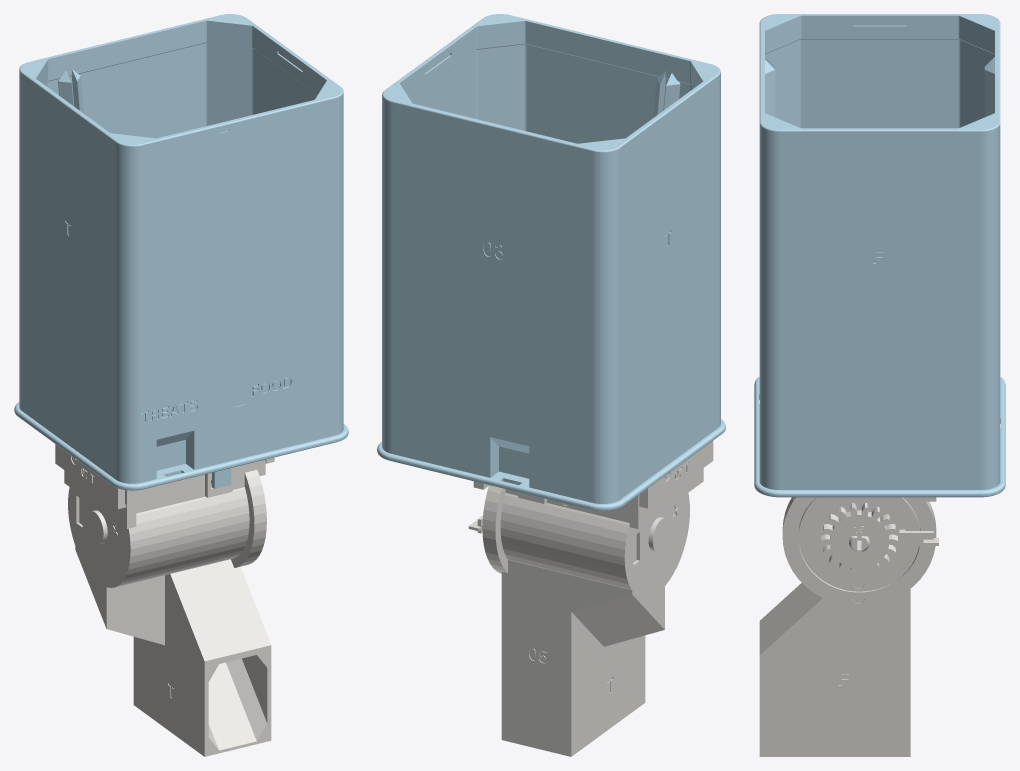
File: a8_hopper.glb
3 renders of one model, left to right at view 1: azimuth 30°, elevation 25°; view 2: azimuth 150°, elevation 25°; view 3: azimuth 270°, elevation 25°, orthographic. The views are drawn at different scales.
Parts seen in each view (by area): view 1: 03_hopper, 05_wheel_housing, 07_flap_holder; view 2: 03_hopper, 05_wheel_housing, 07_flap_holder; view 3: 03_hopper, 05_wheel_housing, 12_end_cap, 15_wheel_gear.
Part boxes in pixels (x1=…): 03_hopper: x1=14, y1=14, x2=348, y2=490; 05_wheel_housing: x1=64, y1=459, x2=271, y2=756; 07_flap_holder: x1=55, y1=444, x2=126, y2=509; 03_hopper: x1=377, y1=14, x2=725, y2=510; 05_wheel_housing: x1=473, y1=468, x2=703, y2=756; 07_flap_holder: x1=639, y1=441, x2=713, y2=508; 03_hopper: x1=754, y1=14, x2=1005, y2=497; 05_wheel_housing: x1=759, y1=497, x2=936, y2=756; 12_end_cap: x1=799, y1=497, x2=938, y2=591; 15_wheel_gear: x1=821, y1=502, x2=897, y2=576.
Bounding box in the file's own units: 0.112 × 0.2874 × 0.098.
